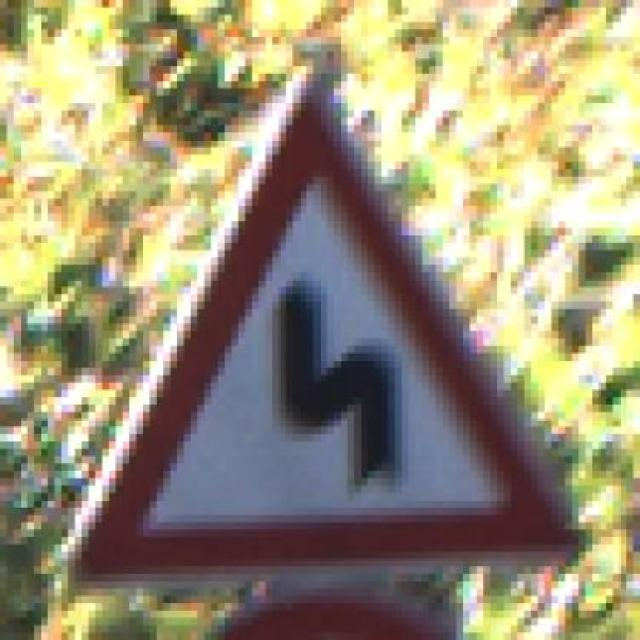Left Zig Zag Traffic: (61, 58, 585, 590)
